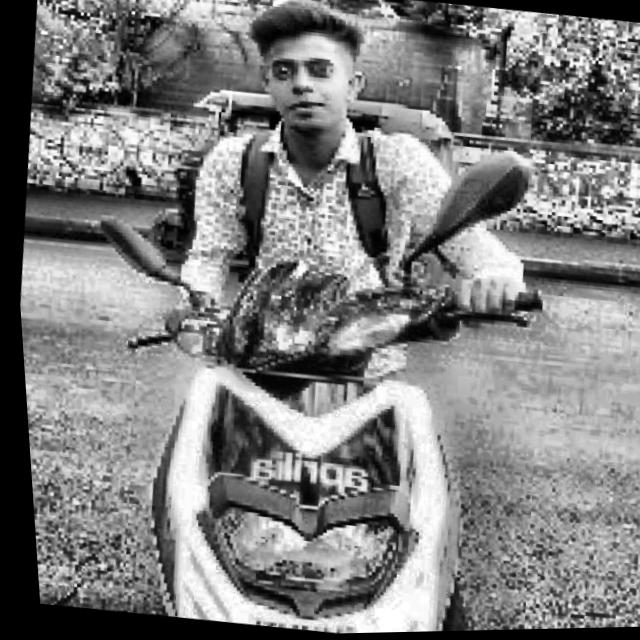motorcycle: (5, 80, 595, 640)
